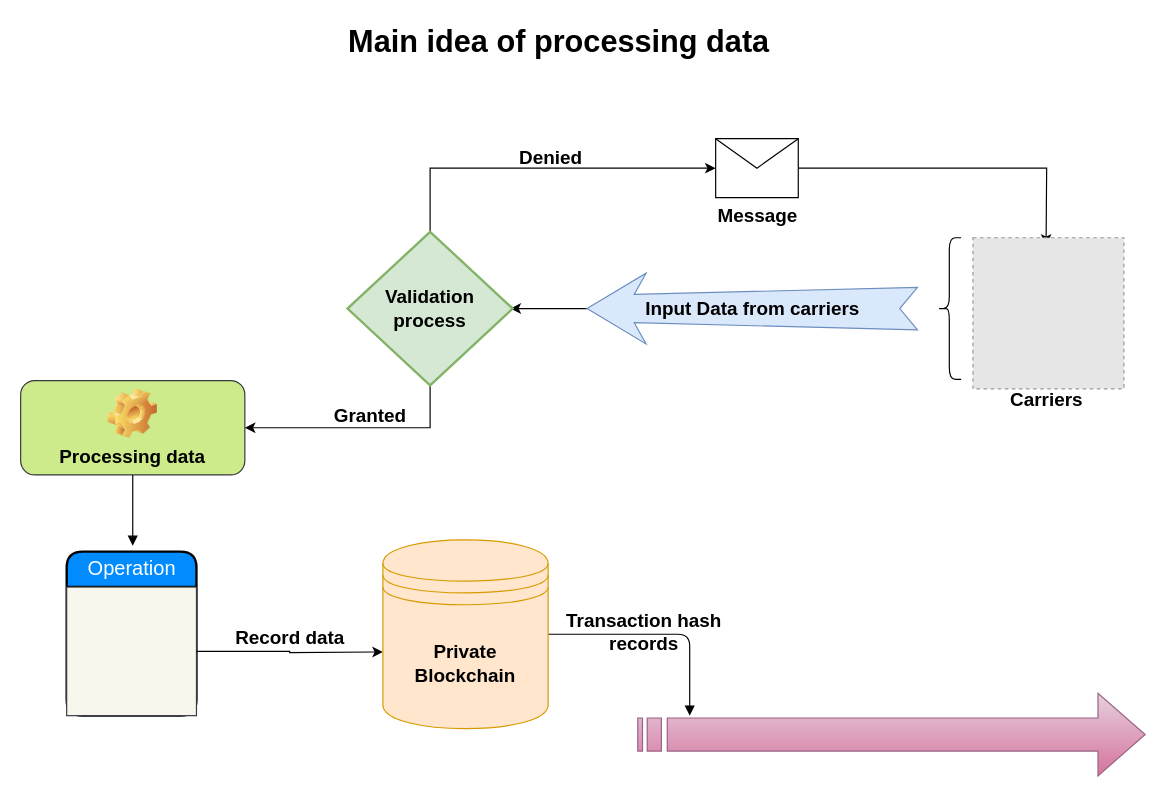
Image size: 1166x796. Some labels were removed from this diagram. Grey dashed boxes stand in for pictures. Each missing label, with the centre of its shape:
+Carrier +Cost +Name +etc: (130,651)
Blockchain or Emercoin: (891,734)
